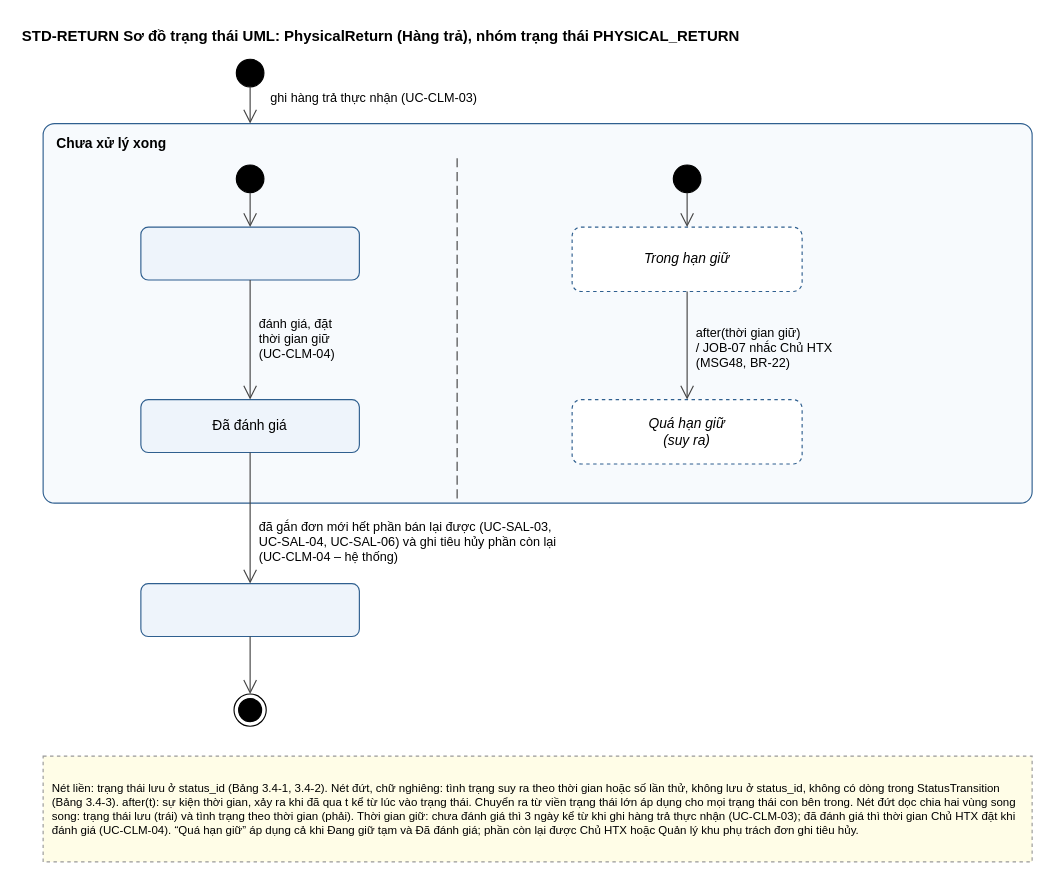
This 1052x882 diagram has some shape labels left out. Each missing label, with the centre of its shape:
Đang giữ tạm: pixel 249 253
Đã xử lý xong: pixel 249 609
